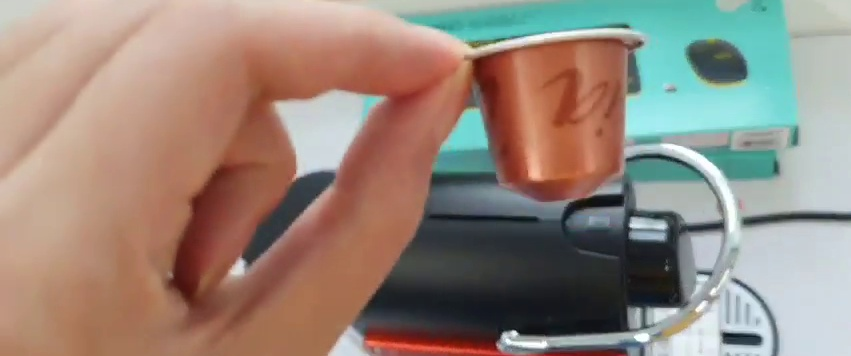capsule_6: (461, 22, 648, 203)
